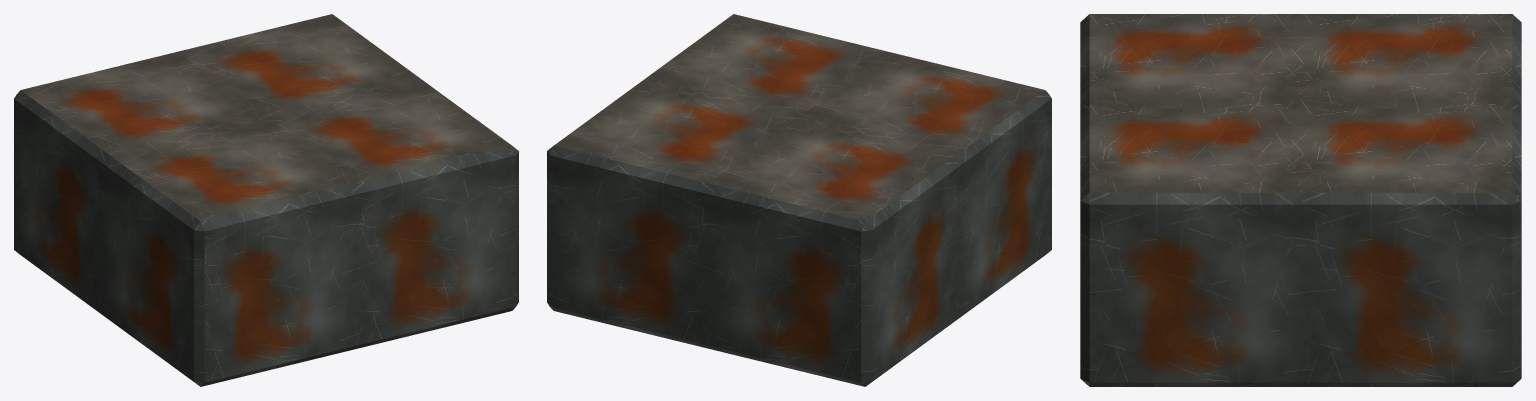
The model's file is R4B_Slab2x2_LOD1.glb.
3 renders of one model, left to right at view 1: azimuth 30°, elevation 25°; view 2: azimuth 150°, elevation 25°; view 3: azimuth 270°, elevation 25°, orthographic. The views are drawn at different scales.
Visible parts, largest first — view 1: R4B_Slab2x2_LOD1; view 2: R4B_Slab2x2_LOD1; view 3: R4B_Slab2x2_LOD1.
Boxes of the visible parts, x1,y1,x2,y2 form: R4B_Slab2x2_LOD1: [14, 14, 518, 386]; R4B_Slab2x2_LOD1: [547, 14, 1051, 386]; R4B_Slab2x2_LOD1: [1080, 14, 1521, 386].
Bounding box in the file's own units: 1.07 × 0.52 × 1.07.
Materials: 2 (2 with a texture image).
